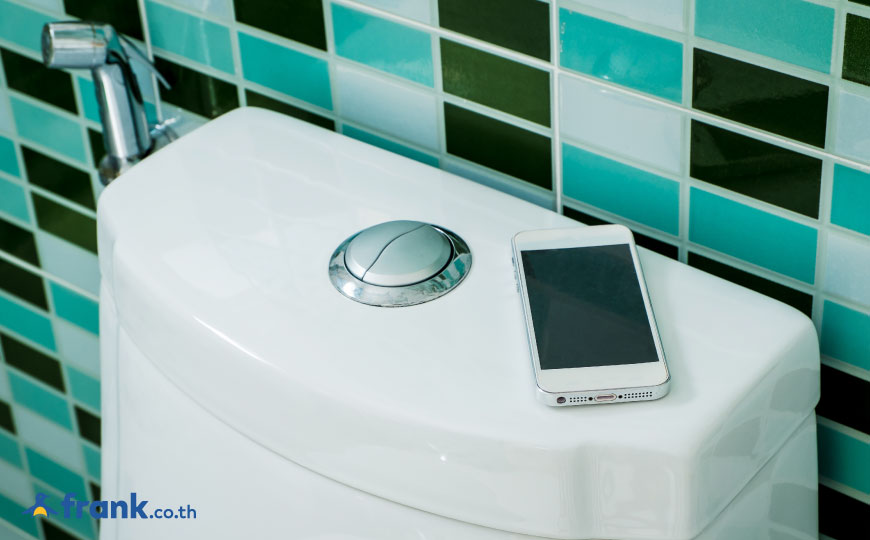phone: (509, 218, 678, 415)
